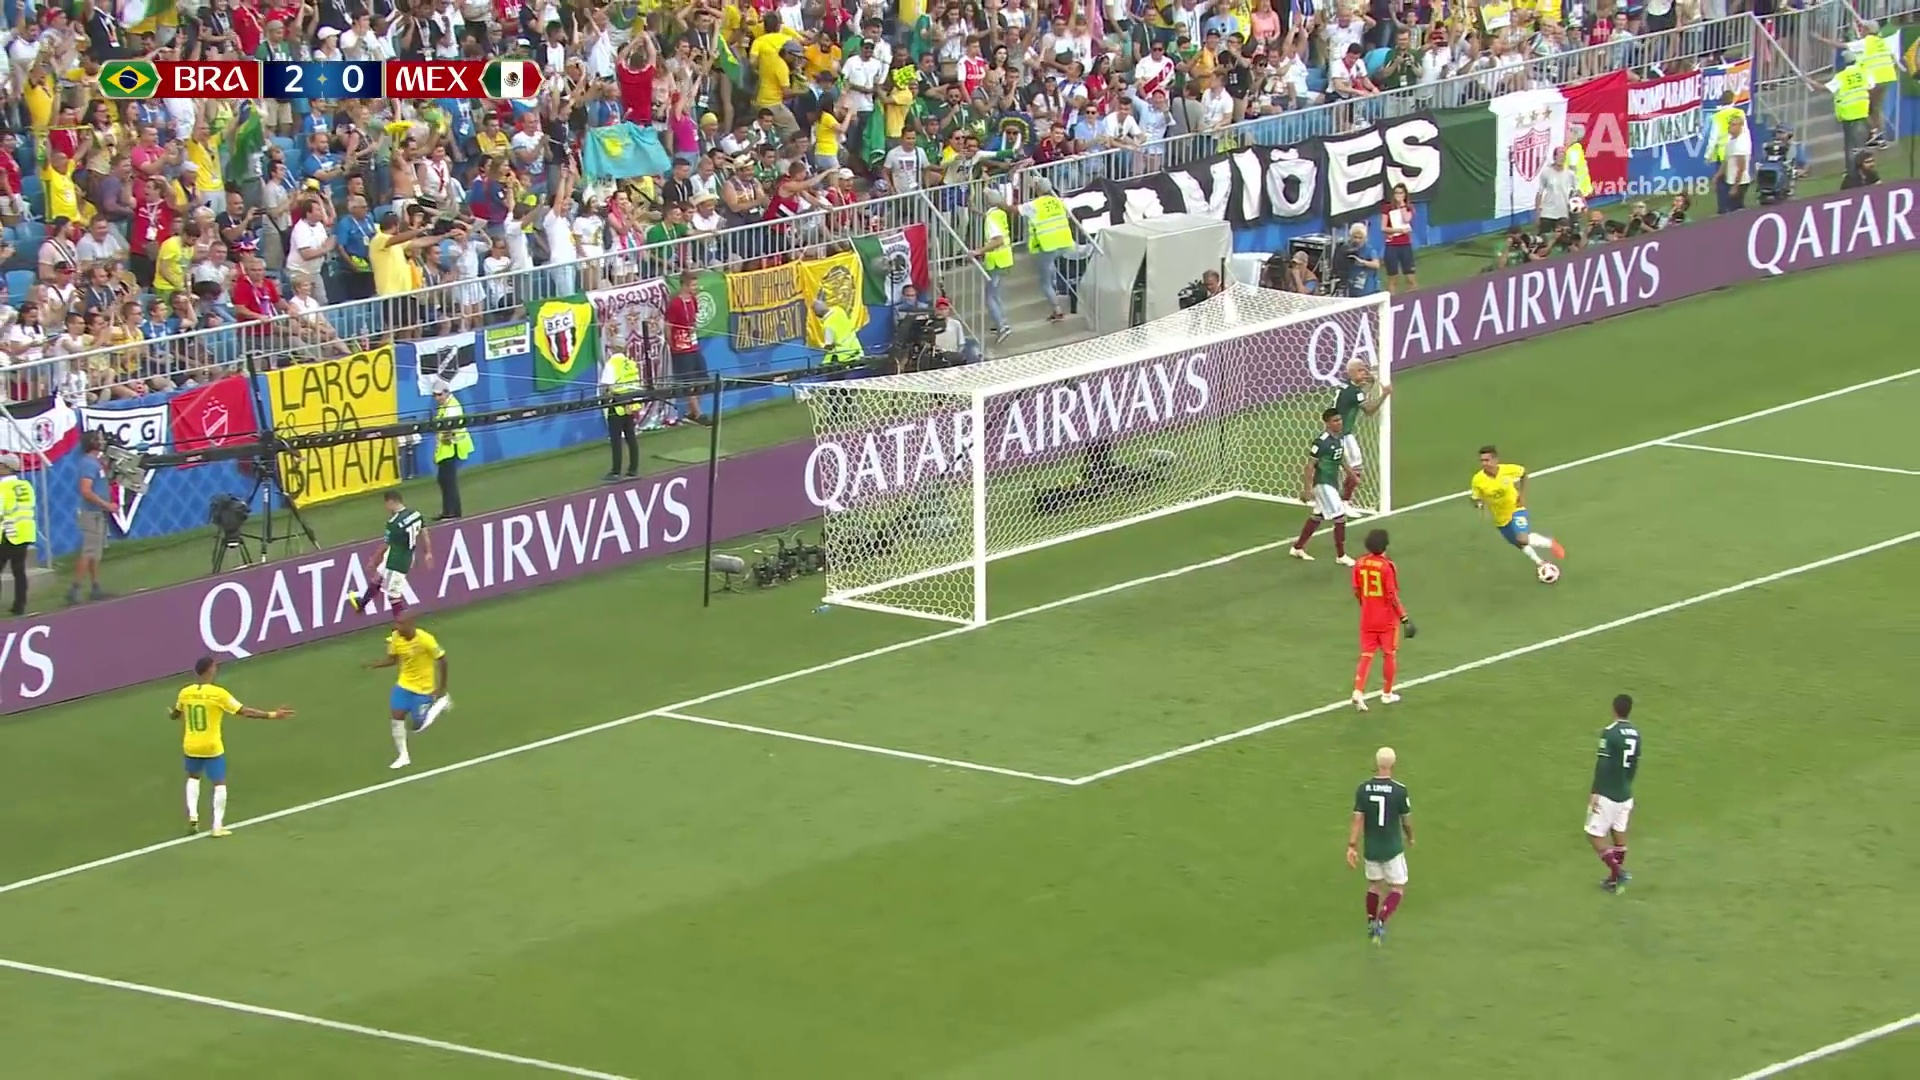ball: (1539, 563, 1558, 584)
person: (166, 660, 288, 838), (359, 612, 454, 766), (1582, 688, 1646, 899), (1348, 751, 1413, 943), (1351, 528, 1415, 705), (1471, 445, 1565, 561), (354, 488, 433, 624), (1293, 411, 1353, 564), (1339, 360, 1389, 496)
